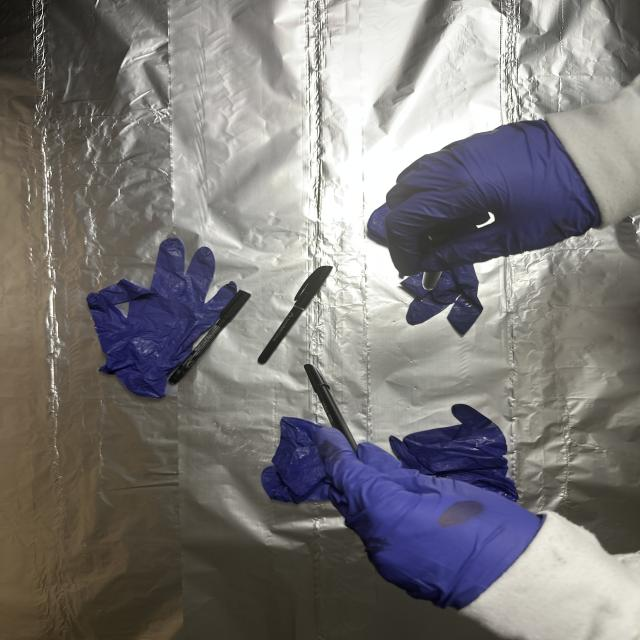gloves_contaminated: (317, 428, 542, 608), (385, 121, 603, 275)
